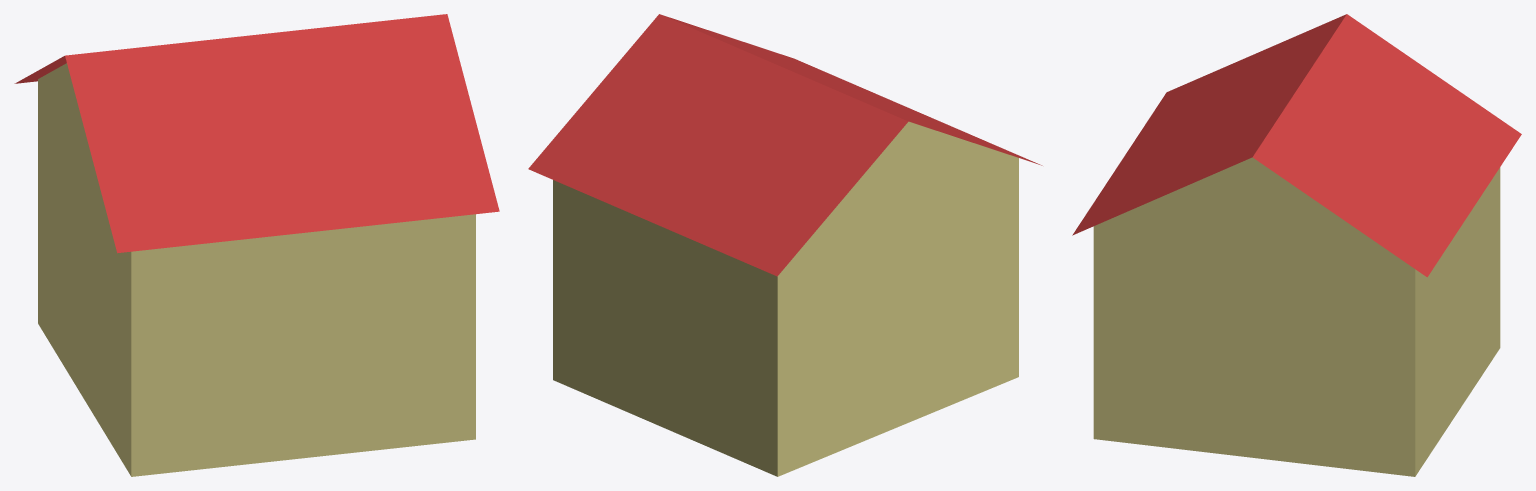
The picture shows the model from 3 angles, left to right: view 1: azimuth 30°, elevation 25°; view 2: azimuth 150°, elevation 25°; view 3: azimuth 270°, elevation 25°; orthographic projection. The views are drawn at different scales.
Size of the model in its own units: 12.52 by 12.85 by 9.71.
